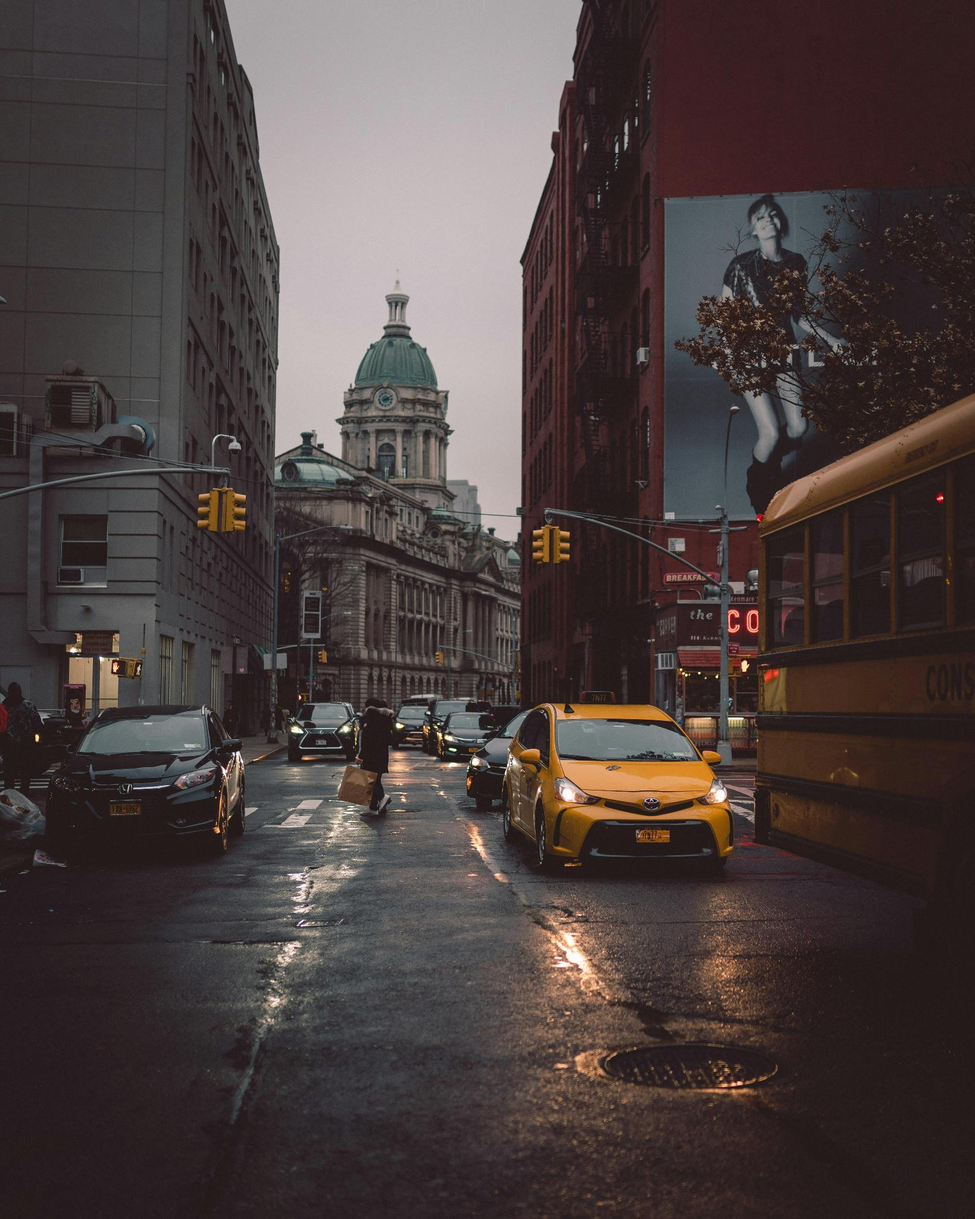car: (511, 702, 750, 888), (72, 704, 249, 845), (291, 704, 358, 763), (439, 706, 483, 760)
pedestrian: (722, 193, 814, 309), (359, 696, 393, 817)
